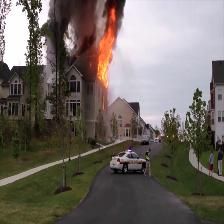fire: (96, 31, 119, 82)
smoke: (48, 2, 94, 54)
